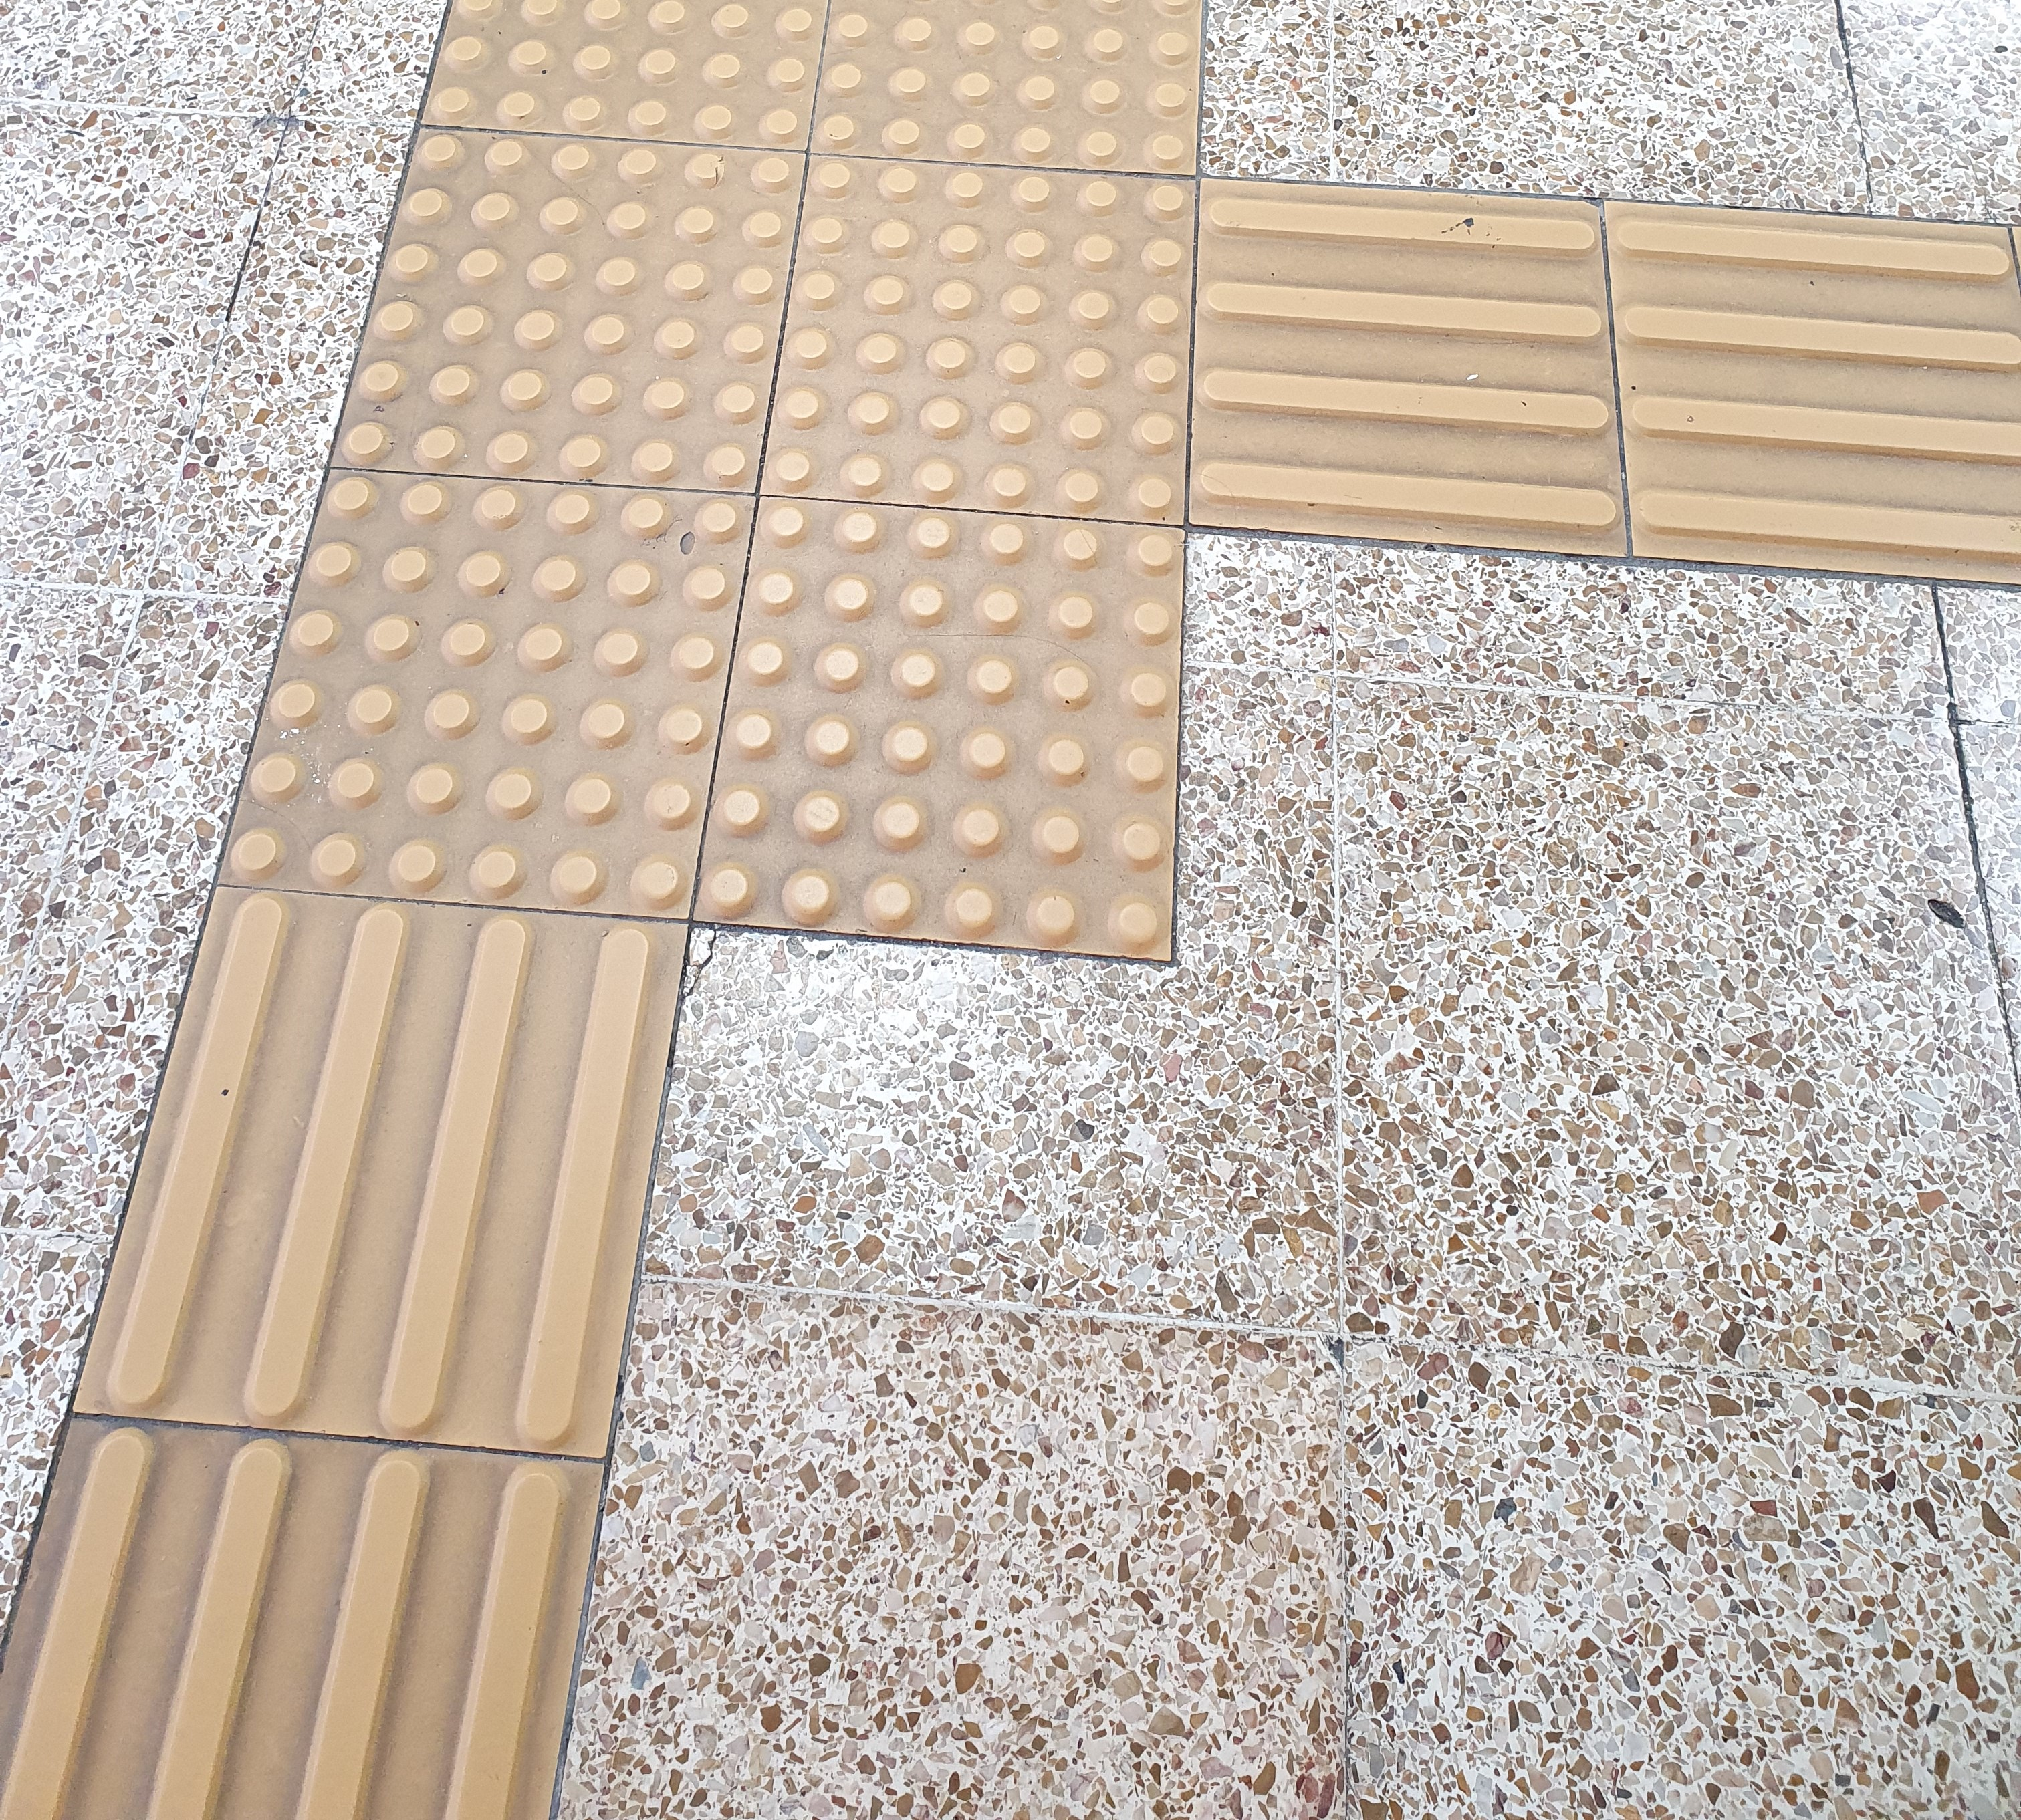guideBlock: (23, 1451, 640, 1820), (114, 942, 659, 1356), (1589, 207, 2021, 580), (1204, 200, 1633, 518)
warningBlock: (288, 516, 814, 959), (712, 480, 1190, 914), (800, 190, 1209, 596), (366, 151, 782, 478), (828, 0, 1170, 200), (441, 14, 805, 160)
